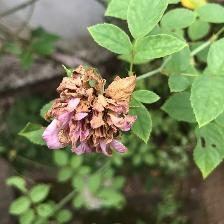rose: (44, 63, 140, 160)
